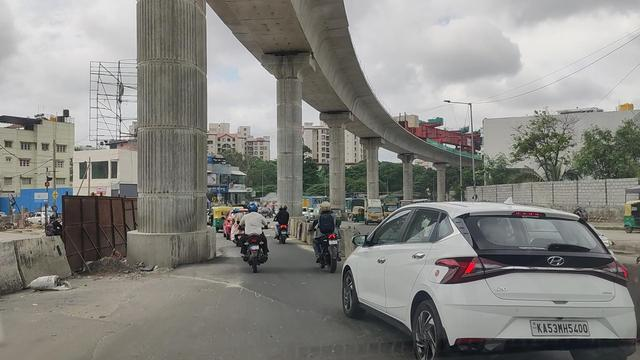LMV: (347, 201, 640, 360), (312, 201, 340, 270), (240, 206, 269, 267)
RoadDamages: (53, 275, 148, 360), (180, 270, 283, 312)
